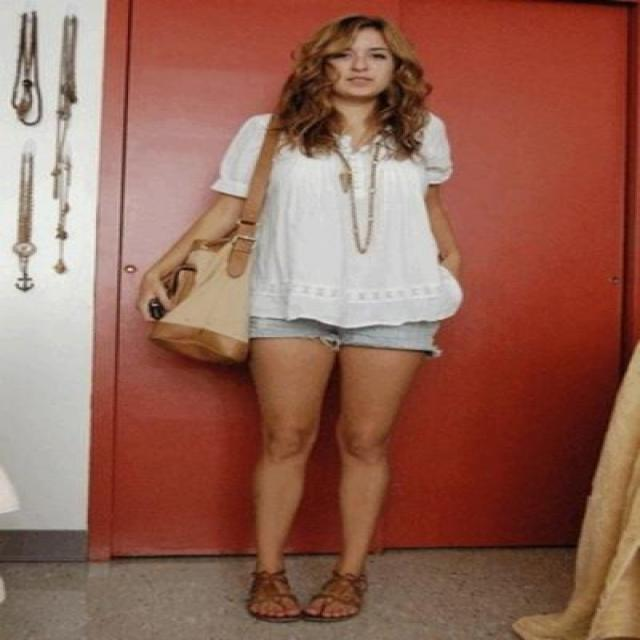bag: (117, 123, 304, 385)
shirt: (211, 115, 461, 328)
shoe: (243, 565, 370, 622)
shorts: (246, 316, 438, 352)
